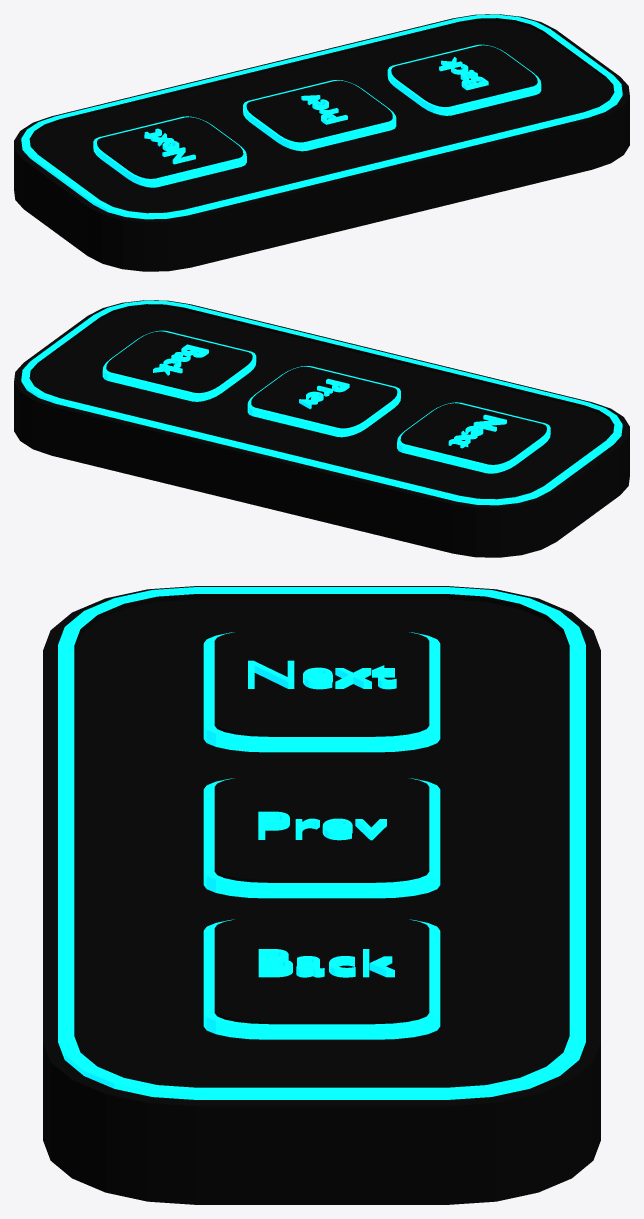
Rendered from Remote.fbx.
3 views of the same model, one above another, from view 1: azimuth 30°, elevation 25°; view 2: azimuth 150°, elevation 25°; view 3: azimuth 270°, elevation 25° (orthographic). The views are drawn at different scales.
Visible parts, largest first — view 1: Cube.320, Cube.328, Cube.329, Cube.327, Text, Text.002, Text.001; view 2: Cube.320, Cube.328, Cube.327, Cube.329, Text, Text.002, Text.001; view 3: Cube.320, Cube.328, Cube.329, Cube.327, Text.002, Text, Text.001.
Boxes of the visible parts, bbox=[...] form: Cube.320: bbox=[14, 14, 629, 271]; Cube.328: bbox=[243, 80, 396, 151]; Cube.329: bbox=[93, 116, 246, 187]; Cube.327: bbox=[387, 44, 541, 115]; Text: bbox=[144, 128, 195, 164]; Text.002: bbox=[439, 57, 488, 90]; Text.001: bbox=[301, 95, 347, 124]; Cube.320: bbox=[14, 300, 629, 557]; Cube.328: bbox=[247, 366, 400, 437]; Cube.327: bbox=[102, 330, 256, 401]; Cube.329: bbox=[397, 402, 550, 473]; Text: bbox=[448, 414, 506, 448]; Text.002: bbox=[153, 344, 208, 375]; Text.001: bbox=[299, 378, 349, 408]; Cube.320: bbox=[43, 586, 600, 1204]; Cube.328: bbox=[203, 775, 440, 898]; Cube.329: bbox=[203, 629, 440, 752]; Cube.327: bbox=[203, 917, 440, 1039]; Text.002: bbox=[258, 949, 394, 977]; Text: bbox=[248, 660, 396, 689]; Text.001: bbox=[258, 811, 386, 840].
Bounding box in the file's own units: 16.04 × 1.75 × 7.27.
